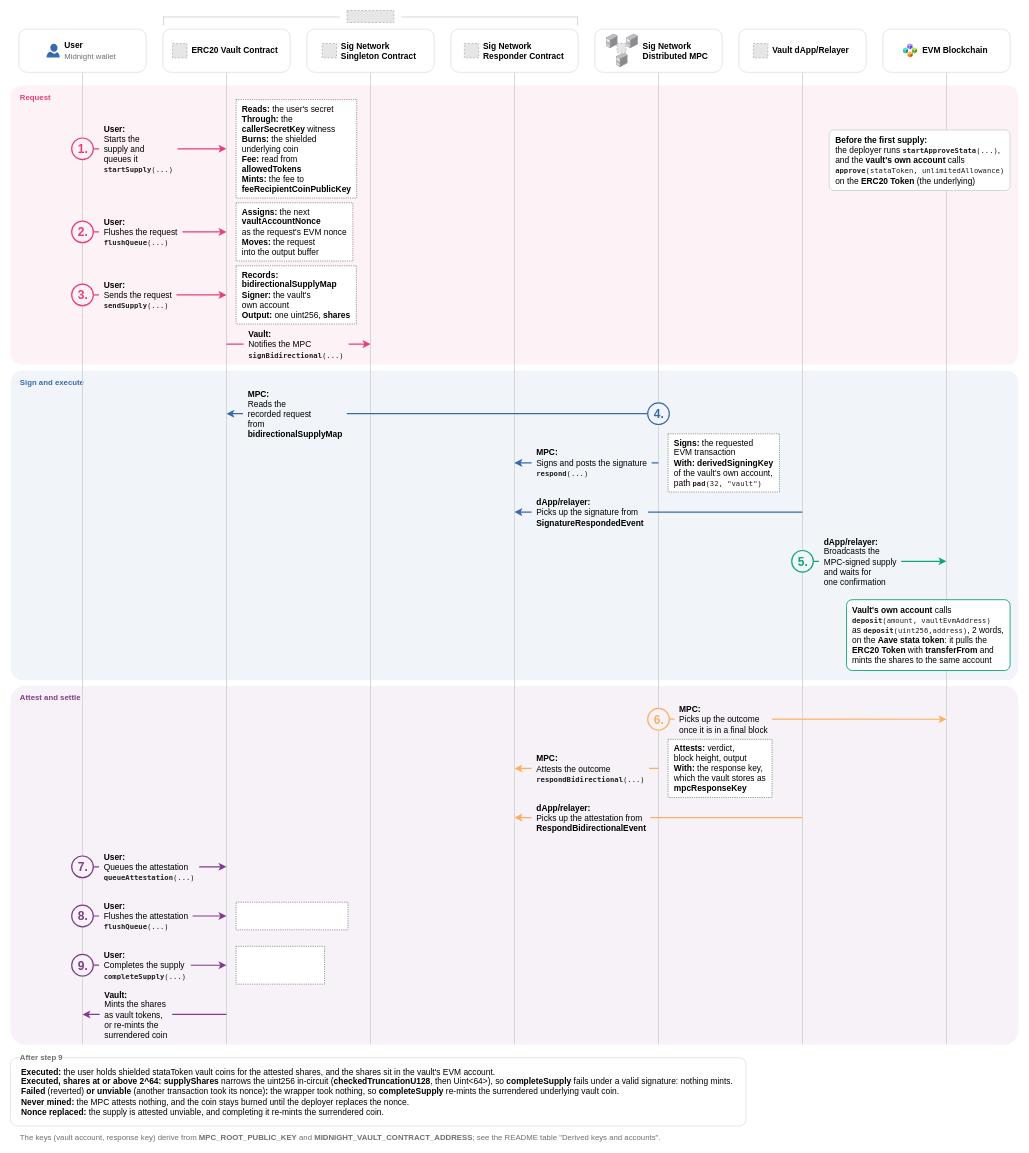
This 1029x1153 diagram has some shape labels left out. Grey dashed boxes stand in for pictures. Each missing label, with the centre of its shape:
"Moves: the attestation into the output buffer" belongs at (x=292, y=916).
"With: the request id, the 32-byte output, a mint nonce" belongs at (x=280, y=965).
